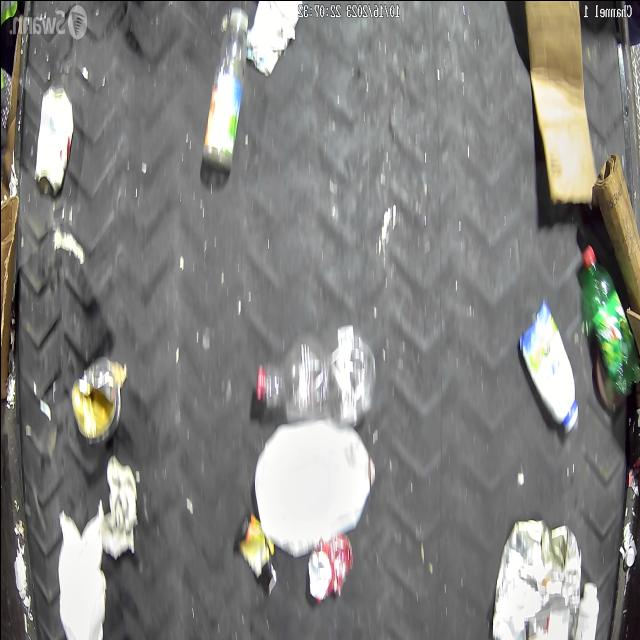can: (68, 354, 124, 444), (32, 81, 74, 197), (307, 530, 353, 600)
milk_jug: (254, 416, 375, 554)
plastic_bottle: (254, 328, 376, 427), (200, 4, 244, 170)
